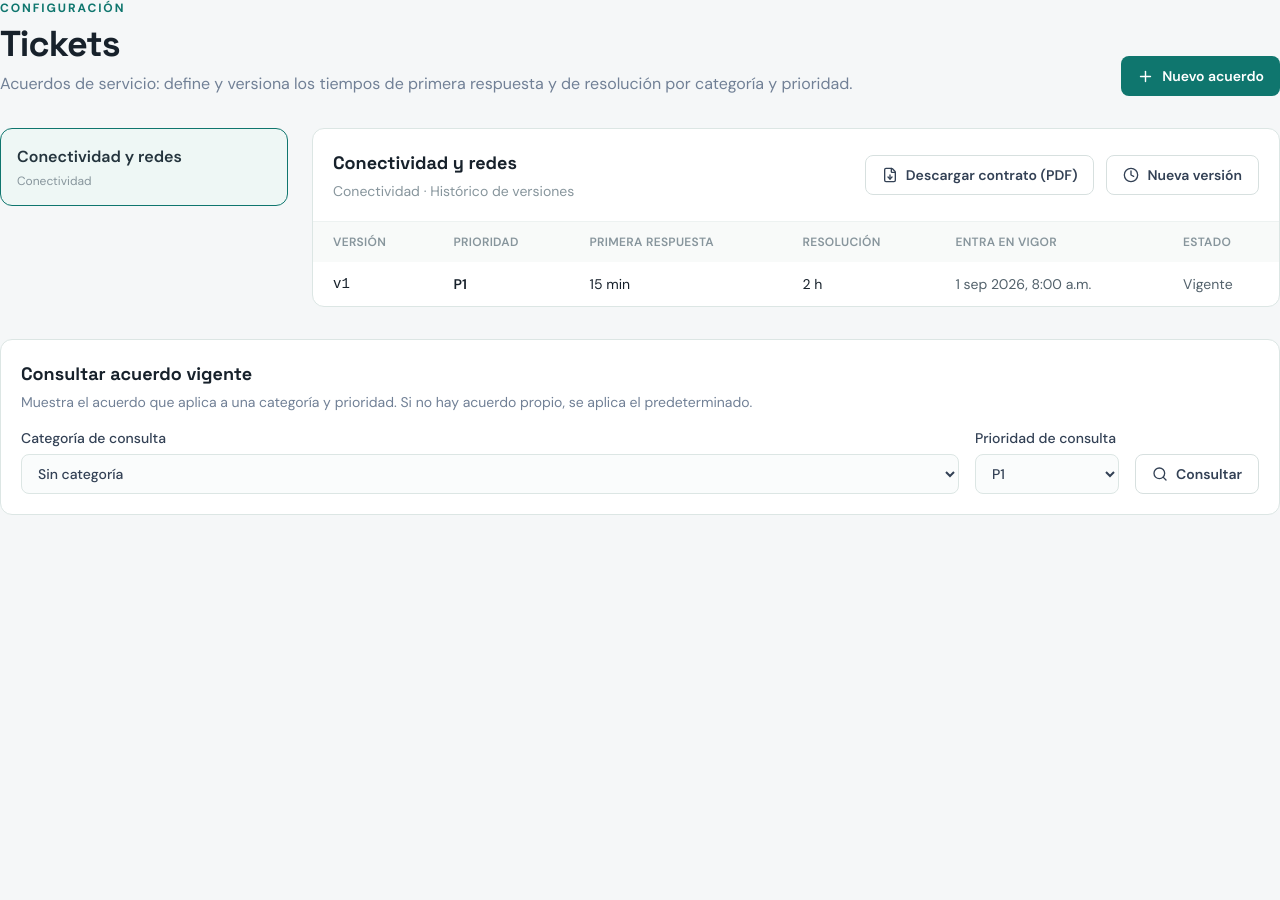
Test: SlaPage: configuración de Tickets (S2-14, COR-05, HU-08.1) › COR-05: el predeterminado muestra el nombre fijo y deshabilitado
Expected: the text "v1" is shown, 313,262 -> 434,306
Step 1. Click the button "Nuevo acuerdo" → (1201, 76), box 1121,56 -> 1279,96
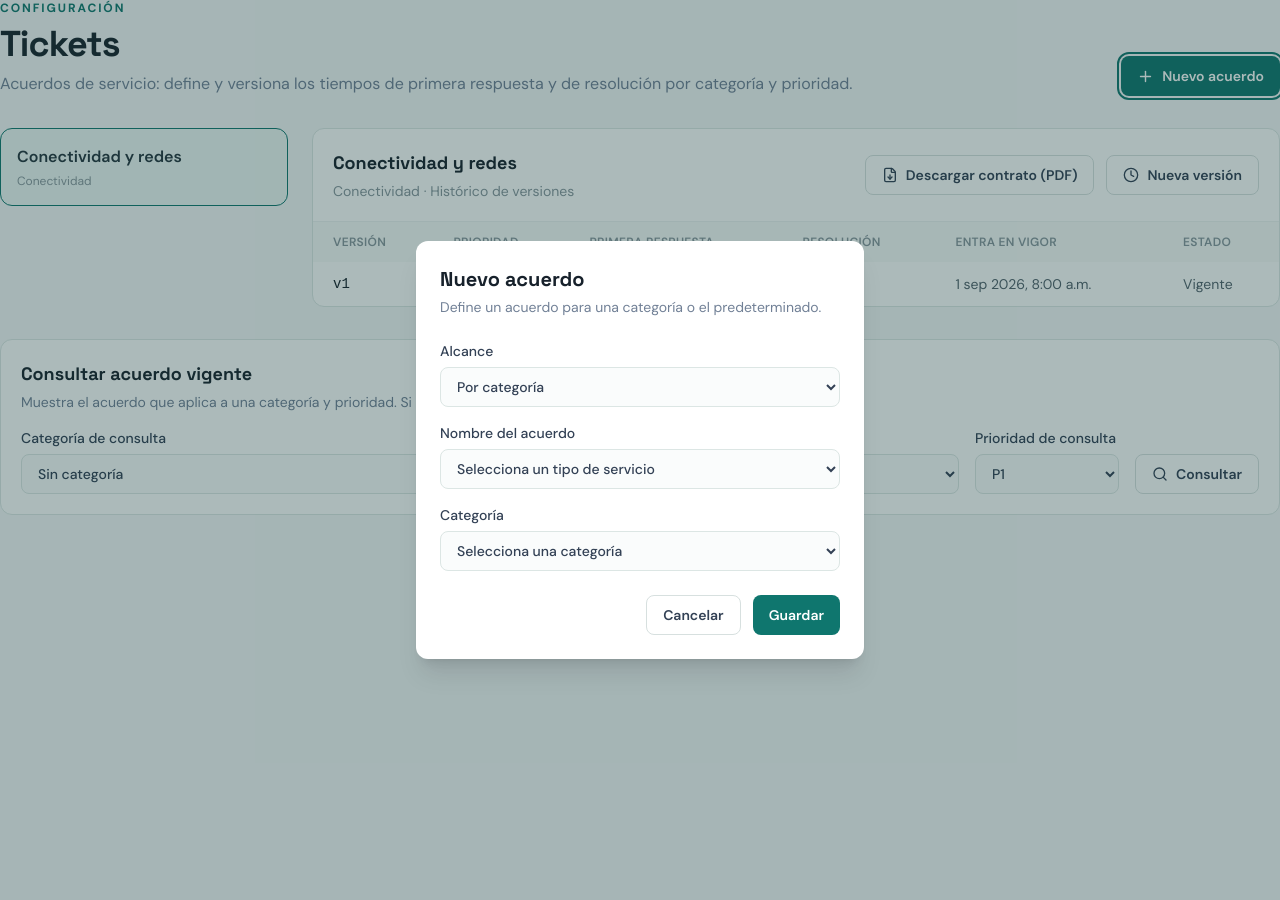
Step 2. Select "Predeterminado" in the dropdown labelled "Alcance" → (640, 387), box 440,367 -> 840,407
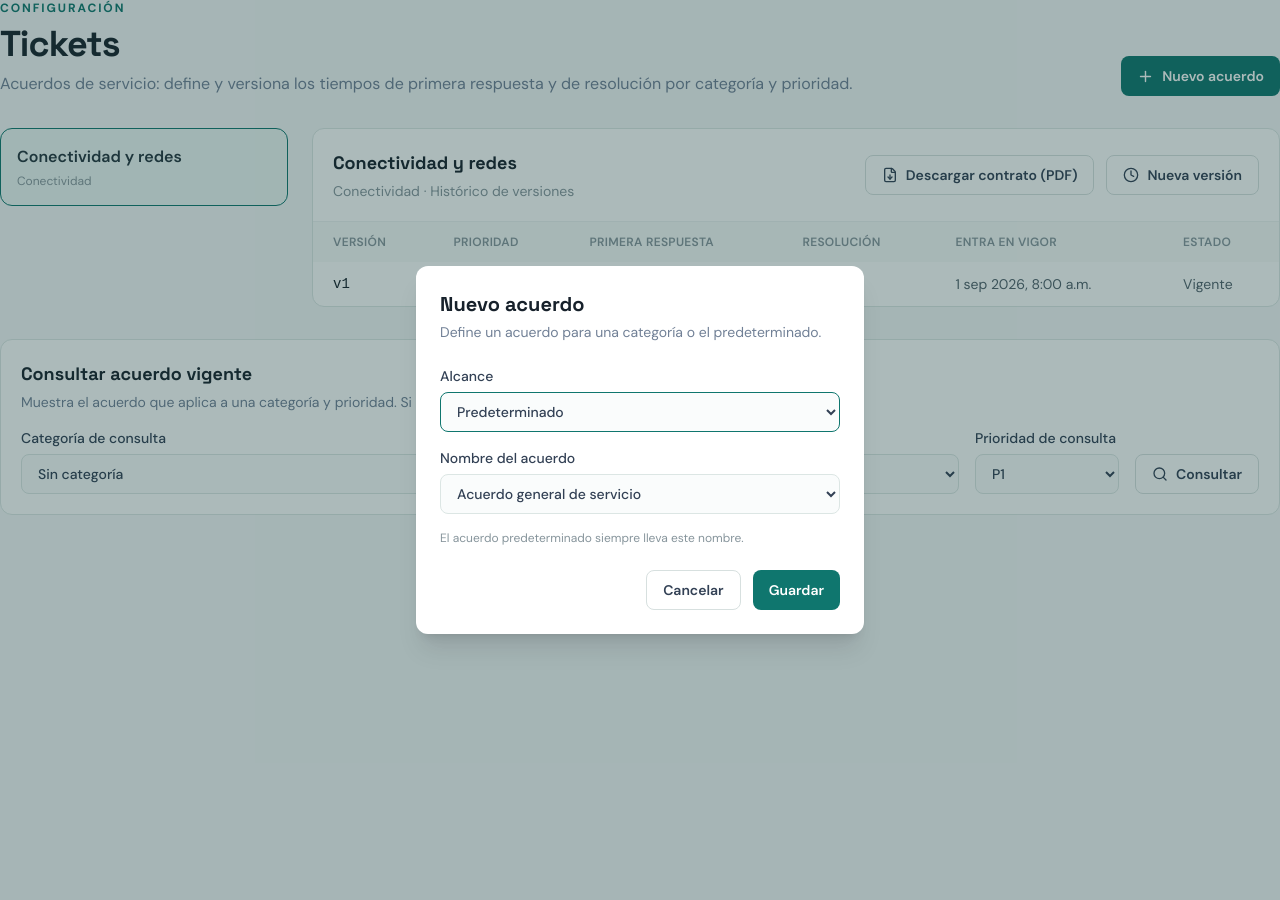
Expected: the dropdown labelled "Nombre del acuerdo" is disabled, 440,474 -> 840,514
Expected: the dropdown labelled "Nombre del acuerdo" shows "Acuerdo general de servicio", 440,474 -> 840,514
